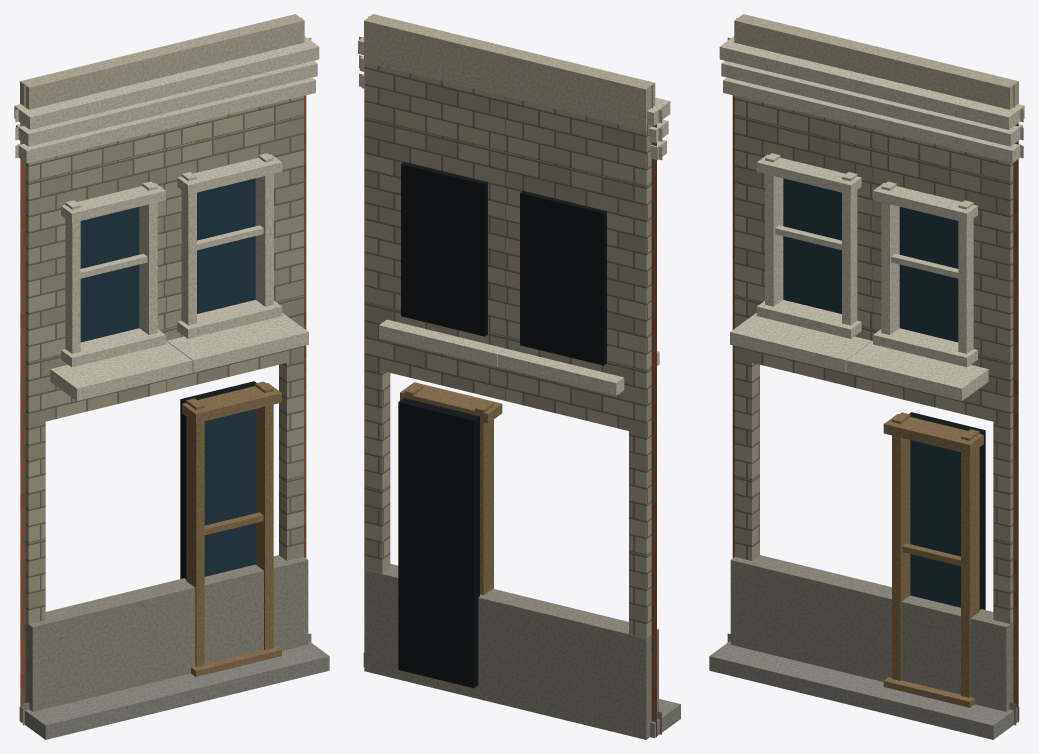
File: RUNDWN15_lod2.glb
3 views of the same model, side by side, from view 1: azimuth 30°, elevation 25°; view 2: azimuth 150°, elevation 25°; view 3: azimuth 330°, elevation 25° (orthographic). The views are drawn at different scales.
Visible parts, largest first — view 1: RUNDWN15_FRONT_LOD2; view 2: RUNDWN15_FRONT_LOD2; view 3: RUNDWN15_FRONT_LOD2.
Boxes of the visible parts, <box> form: RUNDWN15_FRONT_LOD2: <box>14,14,329,739</box>; RUNDWN15_FRONT_LOD2: <box>358,14,680,739</box>; RUNDWN15_FRONT_LOD2: <box>709,14,1024,739</box>.
Size of the model in its own units: 3.44 by 7.05 by 0.85.
Materials: 10 (8 with a texture image).
